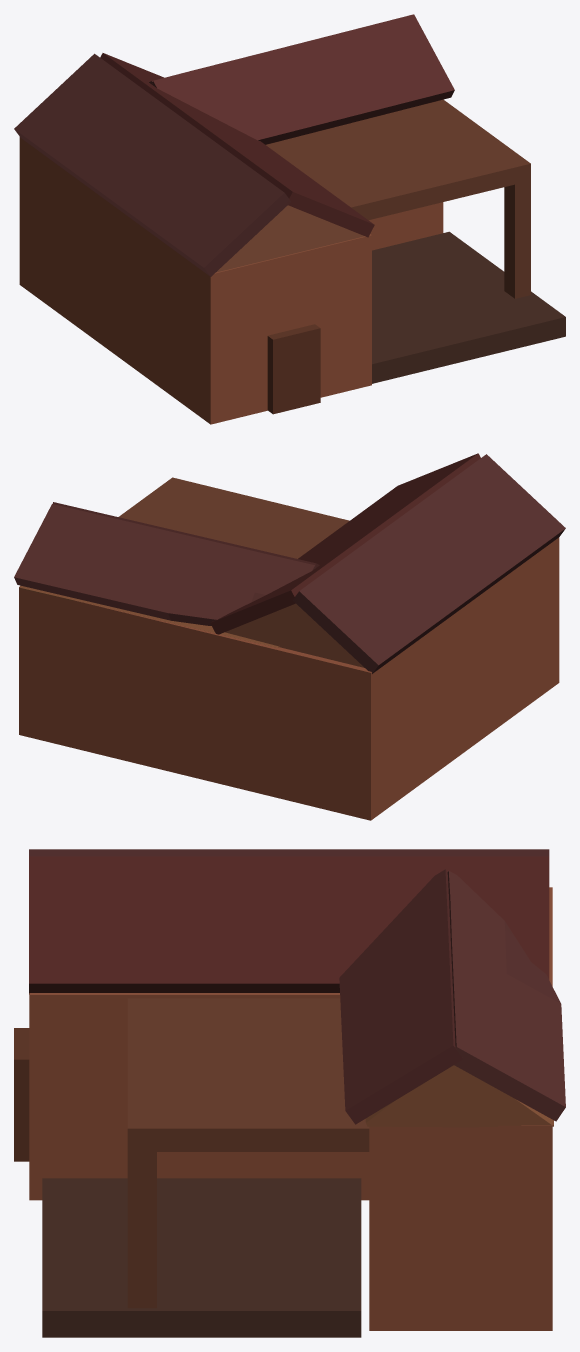
File: casa  tipo 2.fbx
3 views of the same model, one above another, from view 1: azimuth 30°, elevation 25°; view 2: azimuth 150°, elevation 25°; view 3: azimuth 270°, elevation 25° (orthographic). The views are drawn at different scales.
Parts seen in each view (by area): view 1: Cube, Cube.002, Cube.007, Cube.009, Cube.008, Cube.003, Cube.001, Cube.004; view 2: Cube, Cube.002, Cube.006, Cube.009, Cube.003, Cube.004, Cube.005, Cube.007; view 3: Cube, Cube.003, Cube.008, Cube.009, Cube.007, Cube.006, Cube.005, Cube.002, Cube.001.
Boxes of the visible parts, x1=… form: Cube: x1=19, y1=137, x2=443, y2=424; Cube.002: x1=14, y1=53, x2=290, y2=276; Cube.007: x1=152, y1=14, x2=454, y2=144; Cube.009: x1=266, y1=99, x2=530, y2=298; Cube.008: x1=372, y1=231, x2=565, y2=383; Cube.003: x1=100, y1=53, x2=374, y2=237; Cube.001: x1=267, y1=324, x2=320, y2=414; Cube.004: x1=217, y1=205, x2=364, y2=272; Cube: x1=19, y1=537, x2=559, y2=820; Cube.002: x1=293, y1=454, x2=565, y2=673; Cube.006: x1=14, y1=504, x2=315, y2=625; Cube.009: x1=118, y1=477, x2=349, y2=558; Cube.003: x1=210, y1=453, x2=480, y2=634; Cube.004: x1=225, y1=603, x2=364, y2=667; Cube.005: x1=19, y1=585, x2=279, y2=647; Cube.007: x1=52, y1=502, x2=319, y2=567; Cube: x1=29, y1=887, x2=552, y2=1330; Cube.003: x1=29, y1=856, x2=549, y2=994; Cube.008: x1=42, y1=1178, x2=361, y2=1337; Cube.009: x1=127, y1=998, x2=369, y2=1308; Cube.007: x1=339, y1=869, x2=463, y2=1124; Cube.006: x1=447, y1=871, x2=565, y2=1121; Cube.005: x1=365, y1=1065, x2=553, y2=1127; Cube.002: x1=29, y1=849, x2=549, y2=856; Cube.001: x1=14, y1=1028, x2=29, y2=1161.
Bounding box in the file's own units: 1342 × 760 × 1278.
